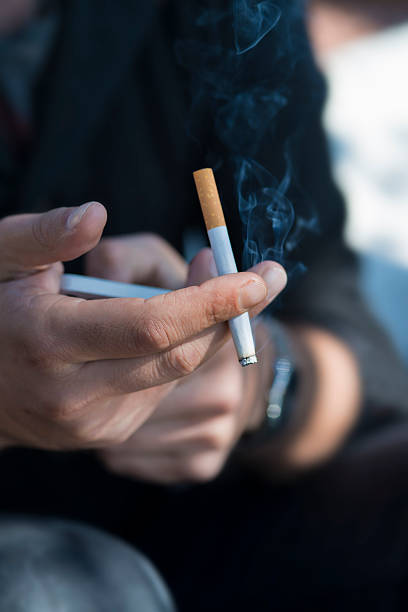cigarette: (193, 164, 258, 367)
